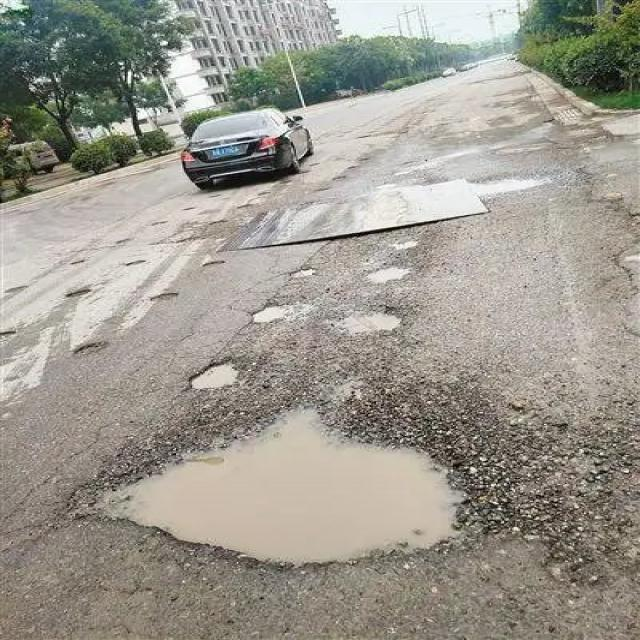Pothole: (91, 398, 491, 584), (171, 352, 266, 389), (336, 306, 403, 345), (362, 263, 414, 287), (242, 298, 286, 326), (70, 336, 109, 363), (150, 285, 180, 306), (286, 264, 314, 279), (0, 325, 19, 346), (118, 255, 146, 269), (58, 287, 88, 299), (67, 255, 88, 268), (102, 237, 130, 246), (144, 221, 170, 227), (176, 205, 194, 212), (198, 260, 222, 264), (202, 193, 219, 198)
